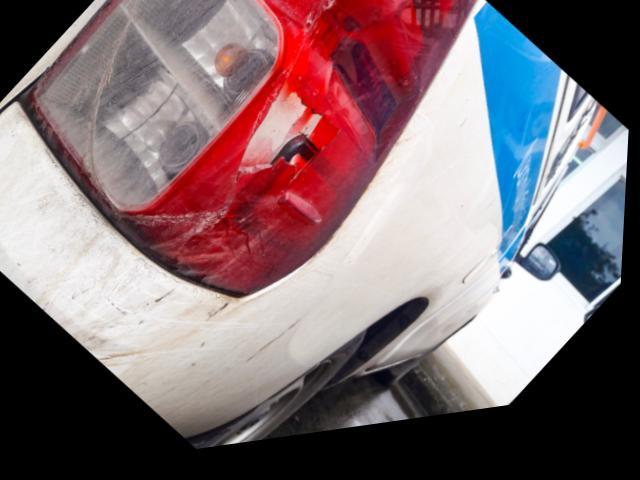lamp broken: (20, 0, 479, 306)
